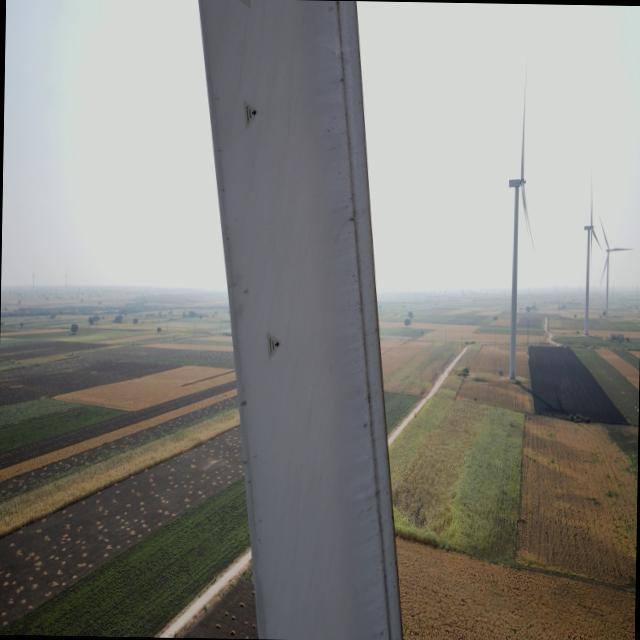Pin Hole: (249, 104, 261, 124), (267, 337, 282, 353), (238, 395, 251, 413)
